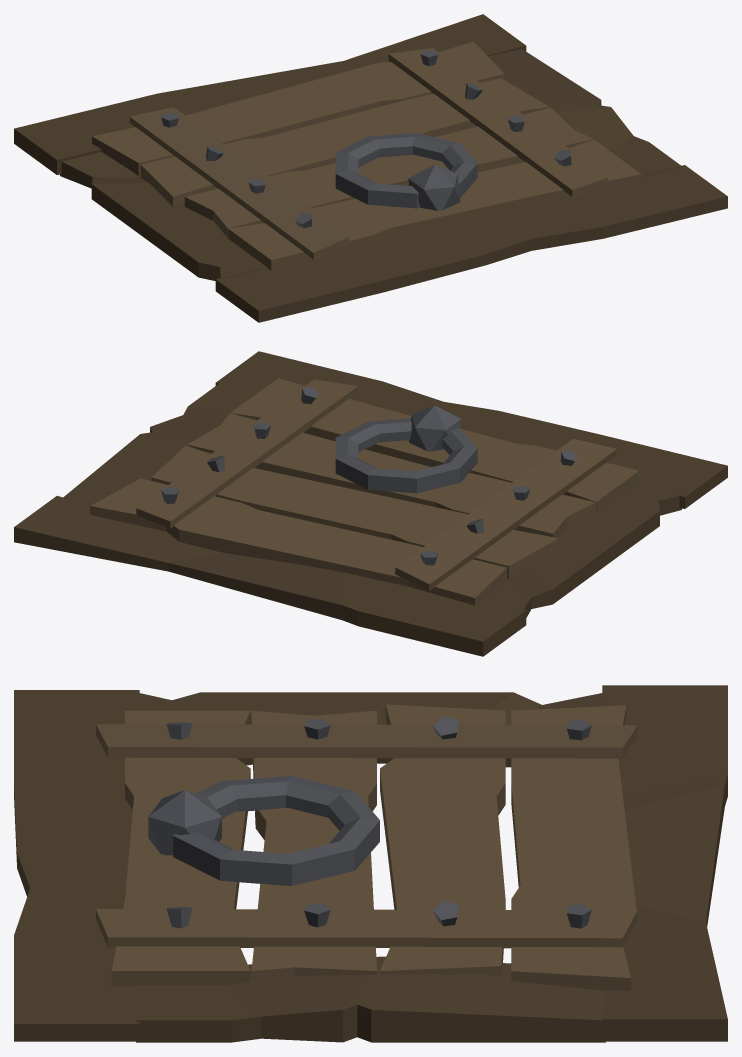
Rendered from Trapdoor.glb.
3 renders of one model, top to bottom at view 1: azimuth 30°, elevation 25°; view 2: azimuth 150°, elevation 25°; view 3: azimuth 270°, elevation 25°, orthographic. The views are drawn at different scales.
Parts seen in each view (by area): view 1: Wood, DarkWood, Metal; view 2: Wood, DarkWood, Metal; view 3: Wood, DarkWood, Metal.
Part boxes in pixels (x1,y1,x2,y2): Wood: (92,41,641,270); DarkWood: (14,14,727,322); Metal: (161,50,571,228); Wood: (90,378,639,605); DarkWood: (14,351,727,656); Metal: (161,387,578,565); Wood: (96,704,637,991); DarkWood: (14,685,727,1042); Metal: (148,716,591,928).
Bounding box in the file's own units: 1.74 × 0.2151 × 1.57.
